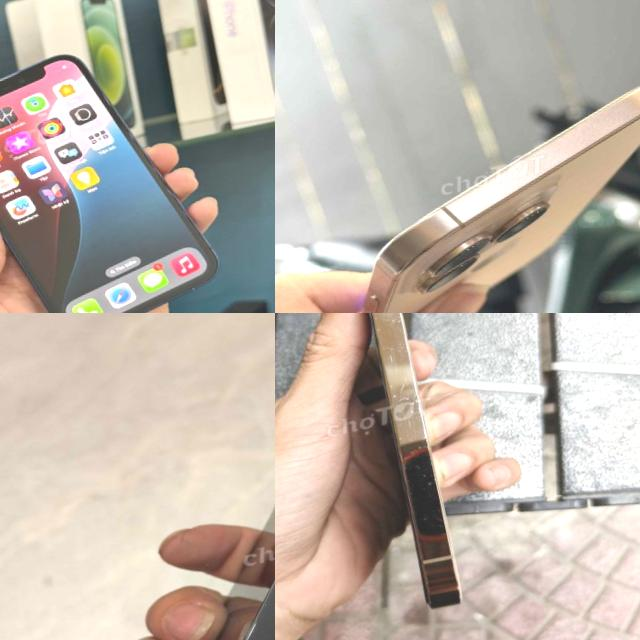gen_12_13: (0, 28, 231, 313), (316, 313, 497, 616)
gen_14: (0, 342, 275, 640)
gen_16: (360, 86, 640, 313)
scratch: (340, 313, 449, 510)
